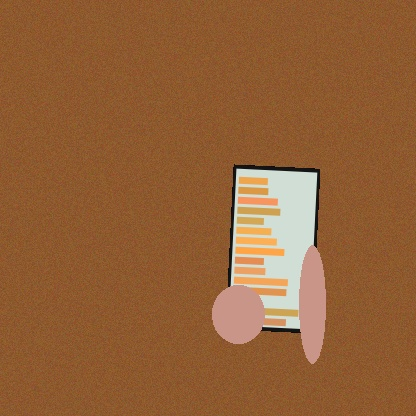cell_phone: (225, 164, 320, 333)
